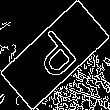P_SE: (26, 24, 84, 86)
